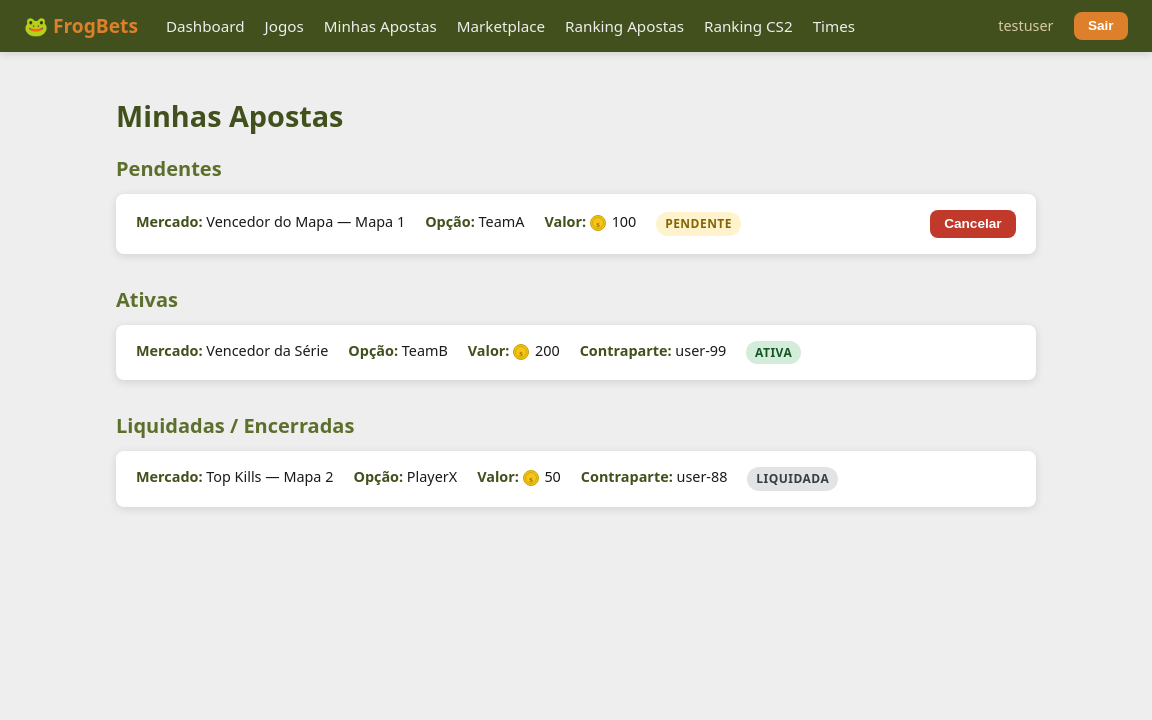
Test: Minhas Apostas › exibe mensagem de erro ao cancelar quando API falha
Click the button "Cancelar" at [973, 224], box [930,210,1016,238]
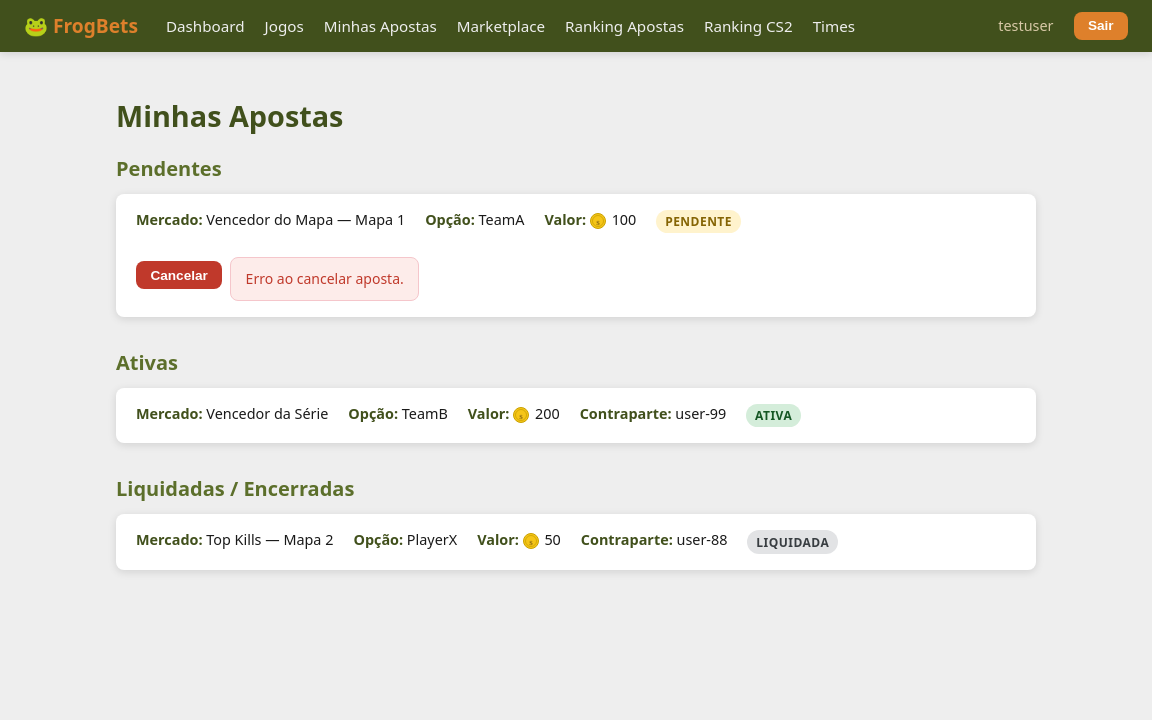
Expected: the message "Erro ao cancelar aposta." is shown, [230,257,419,301]
